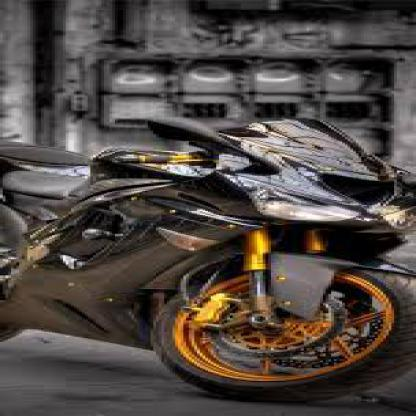Motorcycle: (0, 108, 414, 409)
